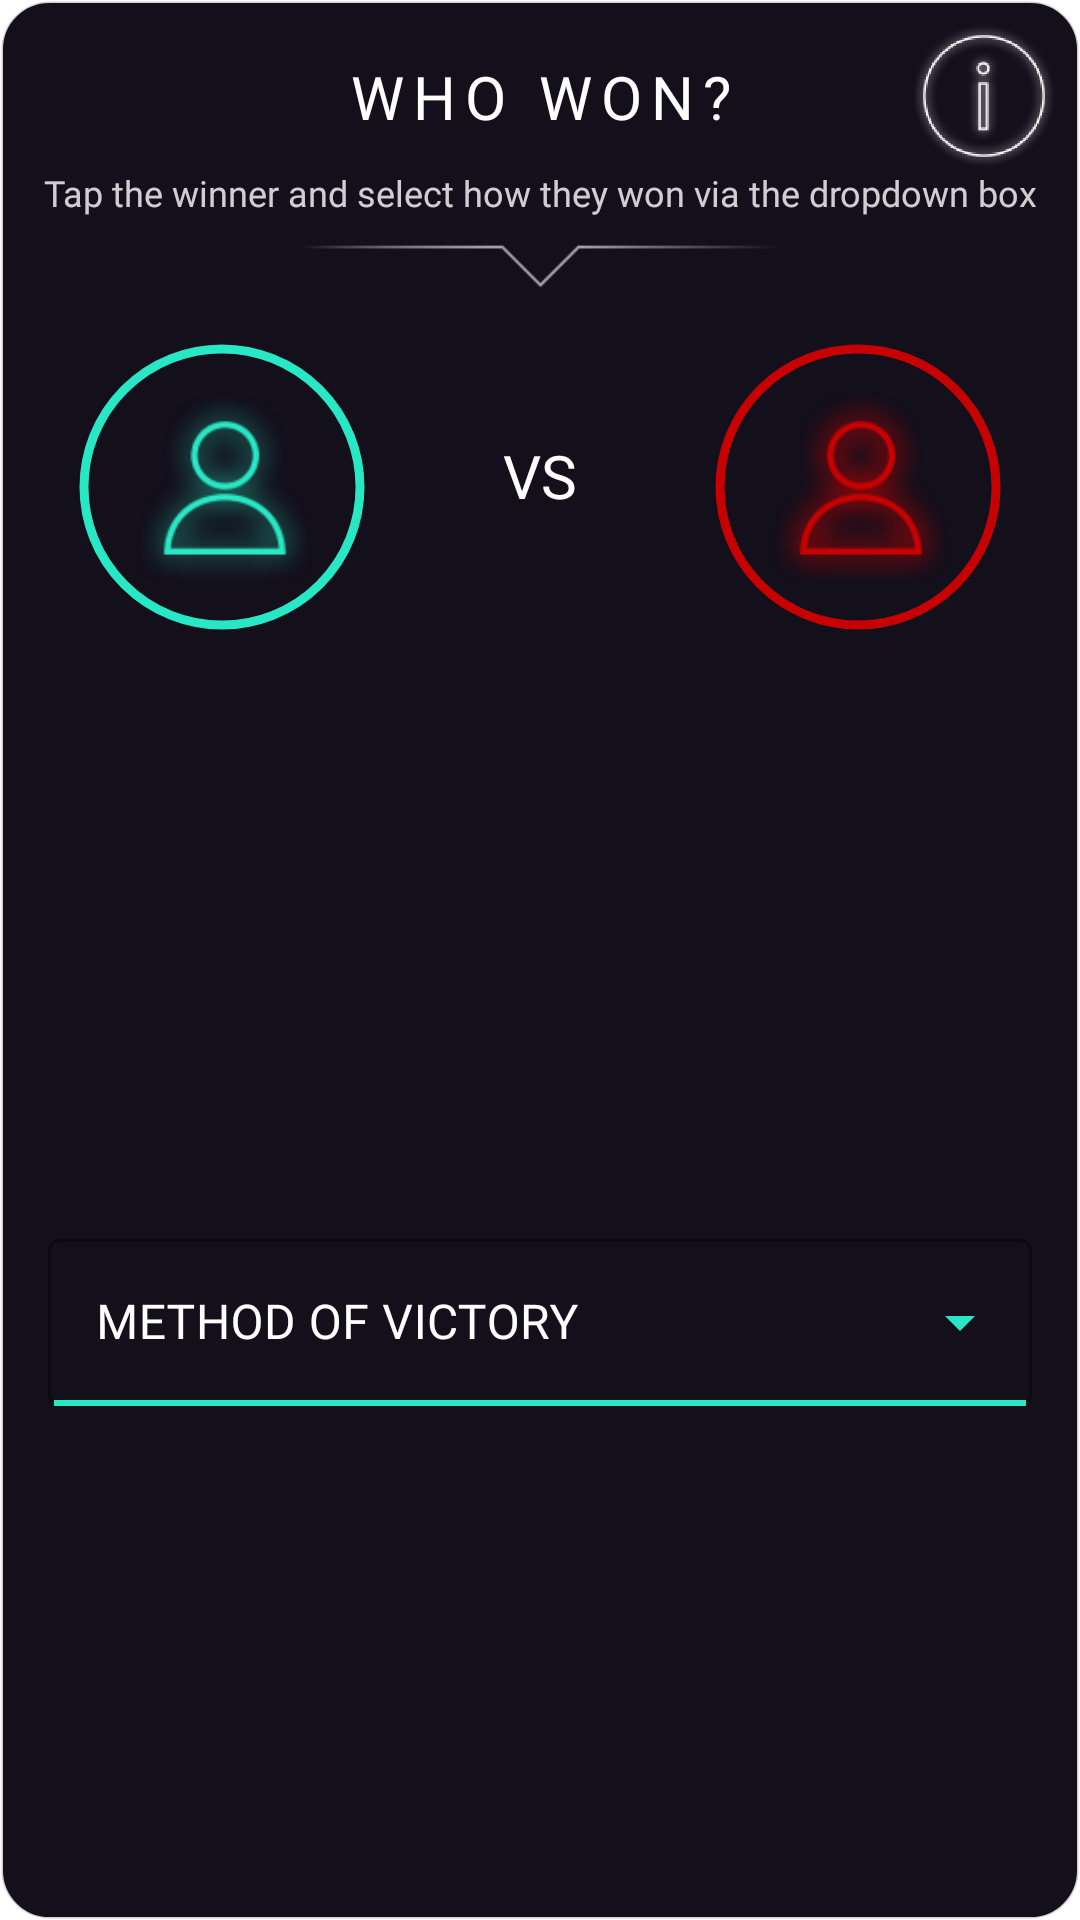

Point at icon controls on the screen. Image size 1080w x 1920h, points as point (x, y).
Info icon: point (983, 95)
